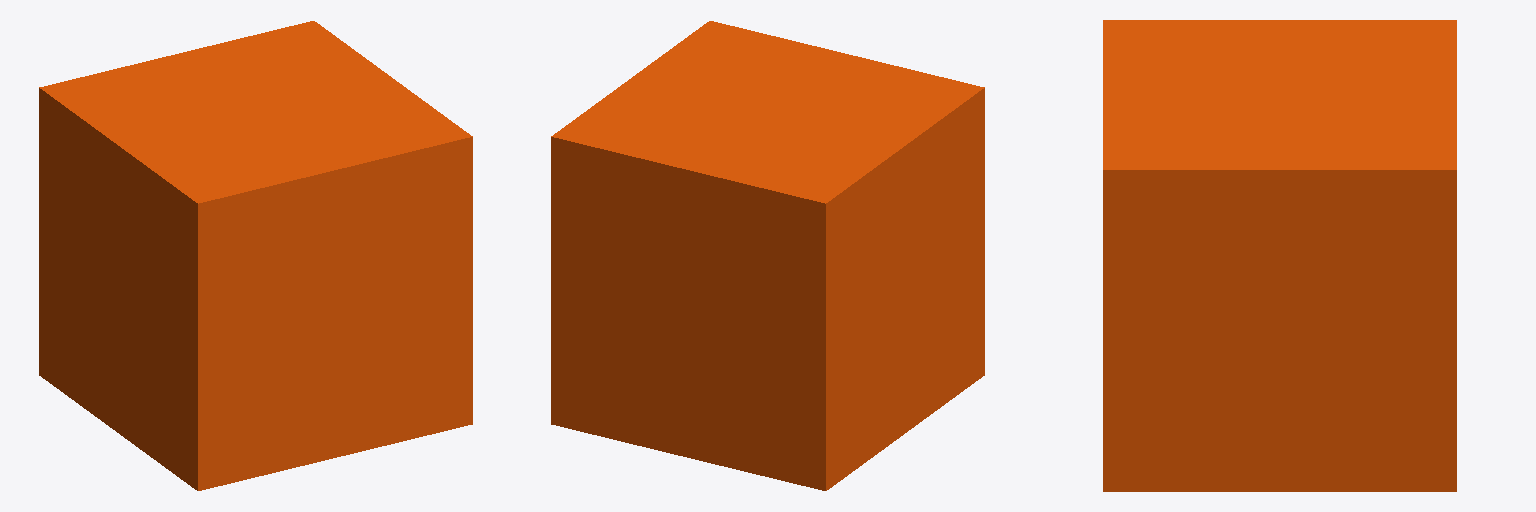
robot.urdf — dvrk_simulator_grasp_cube:
<?xml version="1.0"?>
<!-- SPDX-License-Identifier: Apache-2.0 -->
<robot name="dvrk_simulator_grasp_cube">
  <link name="grasp_cube">
    <inertial>
      <mass value="0.001"/>
      <inertia ixx="0.0000000107" ixy="0" ixz="0"
               iyy="0.0000000107" iyz="0" izz="0.0000000107"/>
    </inertial>
    <visual>
      <geometry><box size="0.008 0.008 0.008"/></geometry>
      <material name="grasp_cube_orange"><color rgba="0.95 0.42 0.08 1"/></material>
    </visual>
    <collision><geometry><box size="0.008 0.008 0.008"/></geometry></collision>
    <contact>
      <lateral_friction value="1.0"/>
      <rolling_friction value="0.001"/>
      <spinning_friction value="0.001"/>
    </contact>
  </link>
</robot>

--- What the picture shows (computed from the rendered views, not written in the file) ---
3 views of the same robot in one strip: view 1: azimuth 30°, elevation 25°; view 2: azimuth 150°, elevation 25°; view 3: azimuth 270°, elevation 25° (orthographic).
Model dvrk_simulator_grasp_cube with 1 links and 0 joints (none), rooted at grasp_cube, posed all joints at 0.
Visible links, largest first — view 1: grasp_cube; view 2: grasp_cube; view 3: grasp_cube.
Link boxes in pixels (x1,y1,x2,y2): grasp_cube: (39,21,472,490); grasp_cube: (551,21,984,490); grasp_cube: (1103,20,1456,491).
Size in the robot's own frame: 0.008 by 0.008 by 0.008 metres.
Geometry: primitives only (box / cylinder / sphere), no mesh files.
